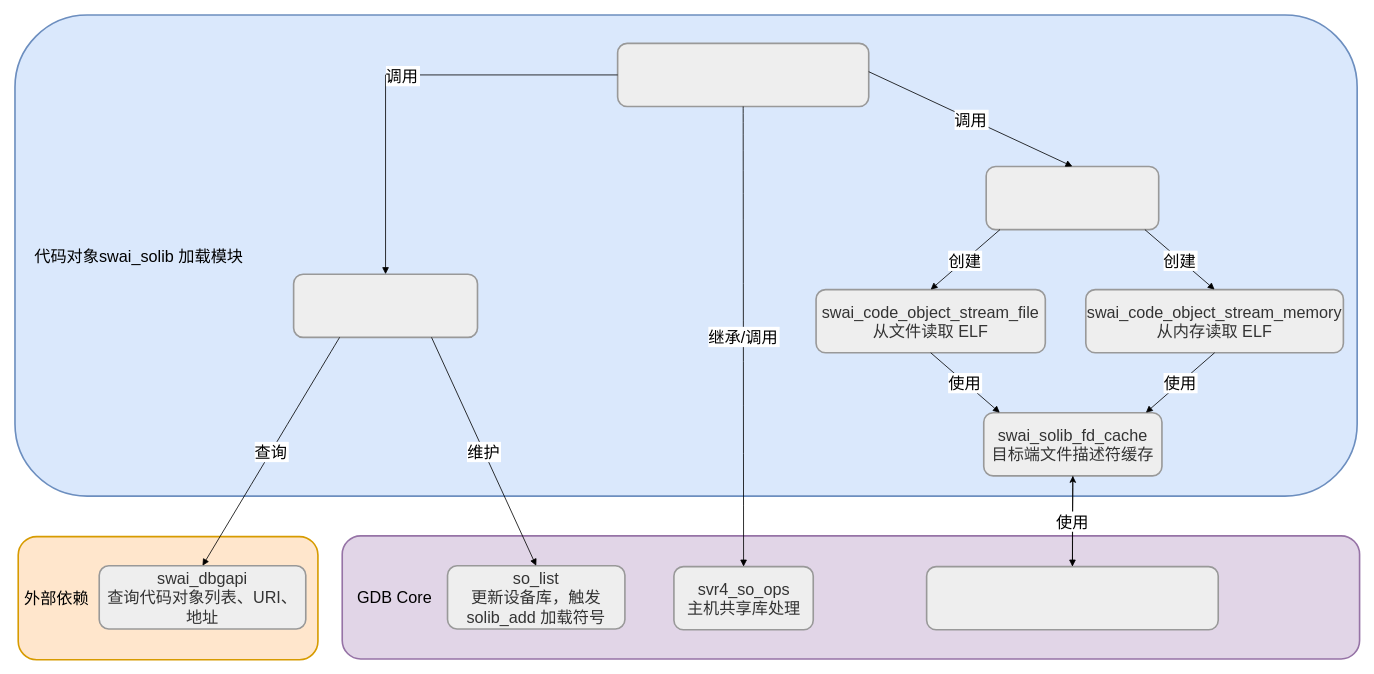
Some shapes in this 1374 by 674 pixel diagram are drawn without their labels. The centre of each missing label's shape, as x and y in pixels:
swai_solib_bfd_open 打开代码对象 BFD: the point at 1072,197
swai_solib_ops 实现 target_so_ops接口: the point at 742,74
swai_update_solib_list 构建设备代码对象列表: the point at 385,305
target_fileio_* 目标端文件 I/O: the point at 1072,597
